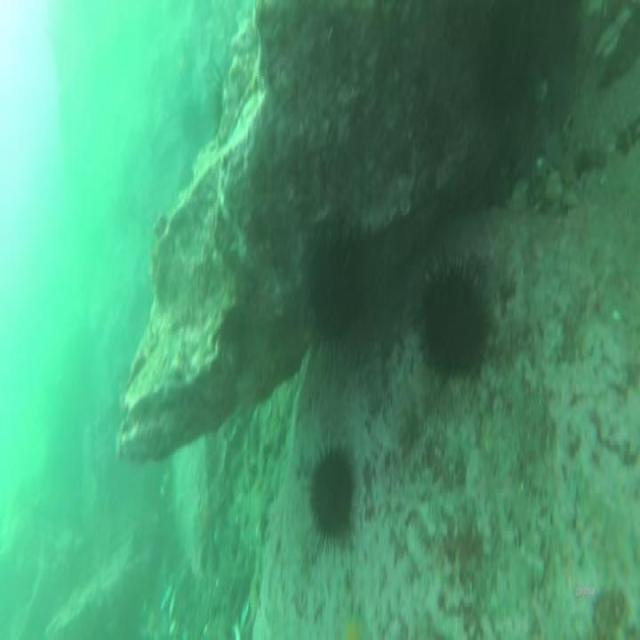echinus: (421, 276, 487, 382), (309, 253, 361, 340), (310, 455, 356, 542)
